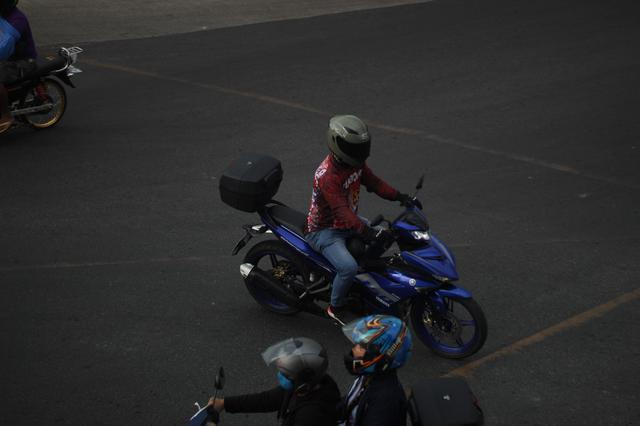helmet: (342, 315, 413, 382), (268, 333, 330, 398), (326, 114, 372, 170)
motorcycle: (234, 113, 489, 365), (1, 2, 78, 142)
